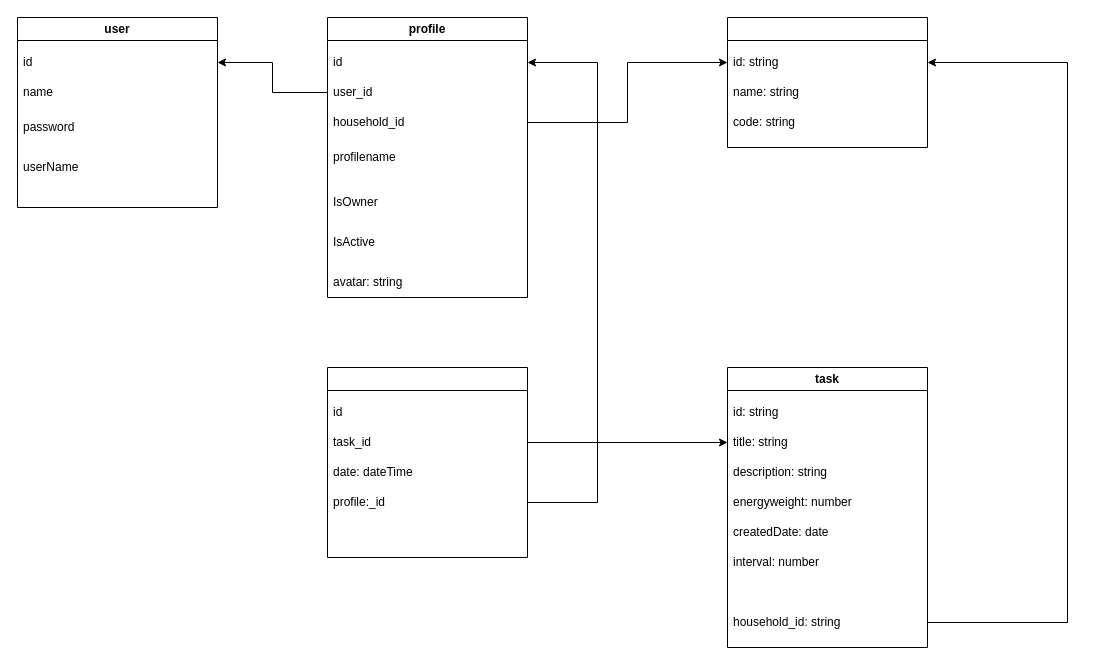
The diagram is 1093 pixels wide and 665 high, and some of its shapes have lost their labels. The box of each missing label's shape, as (x1, y1, x2, y2) in pixels:
household: (726, 16, 928, 148)
taskcompletion: (326, 366, 528, 558)
